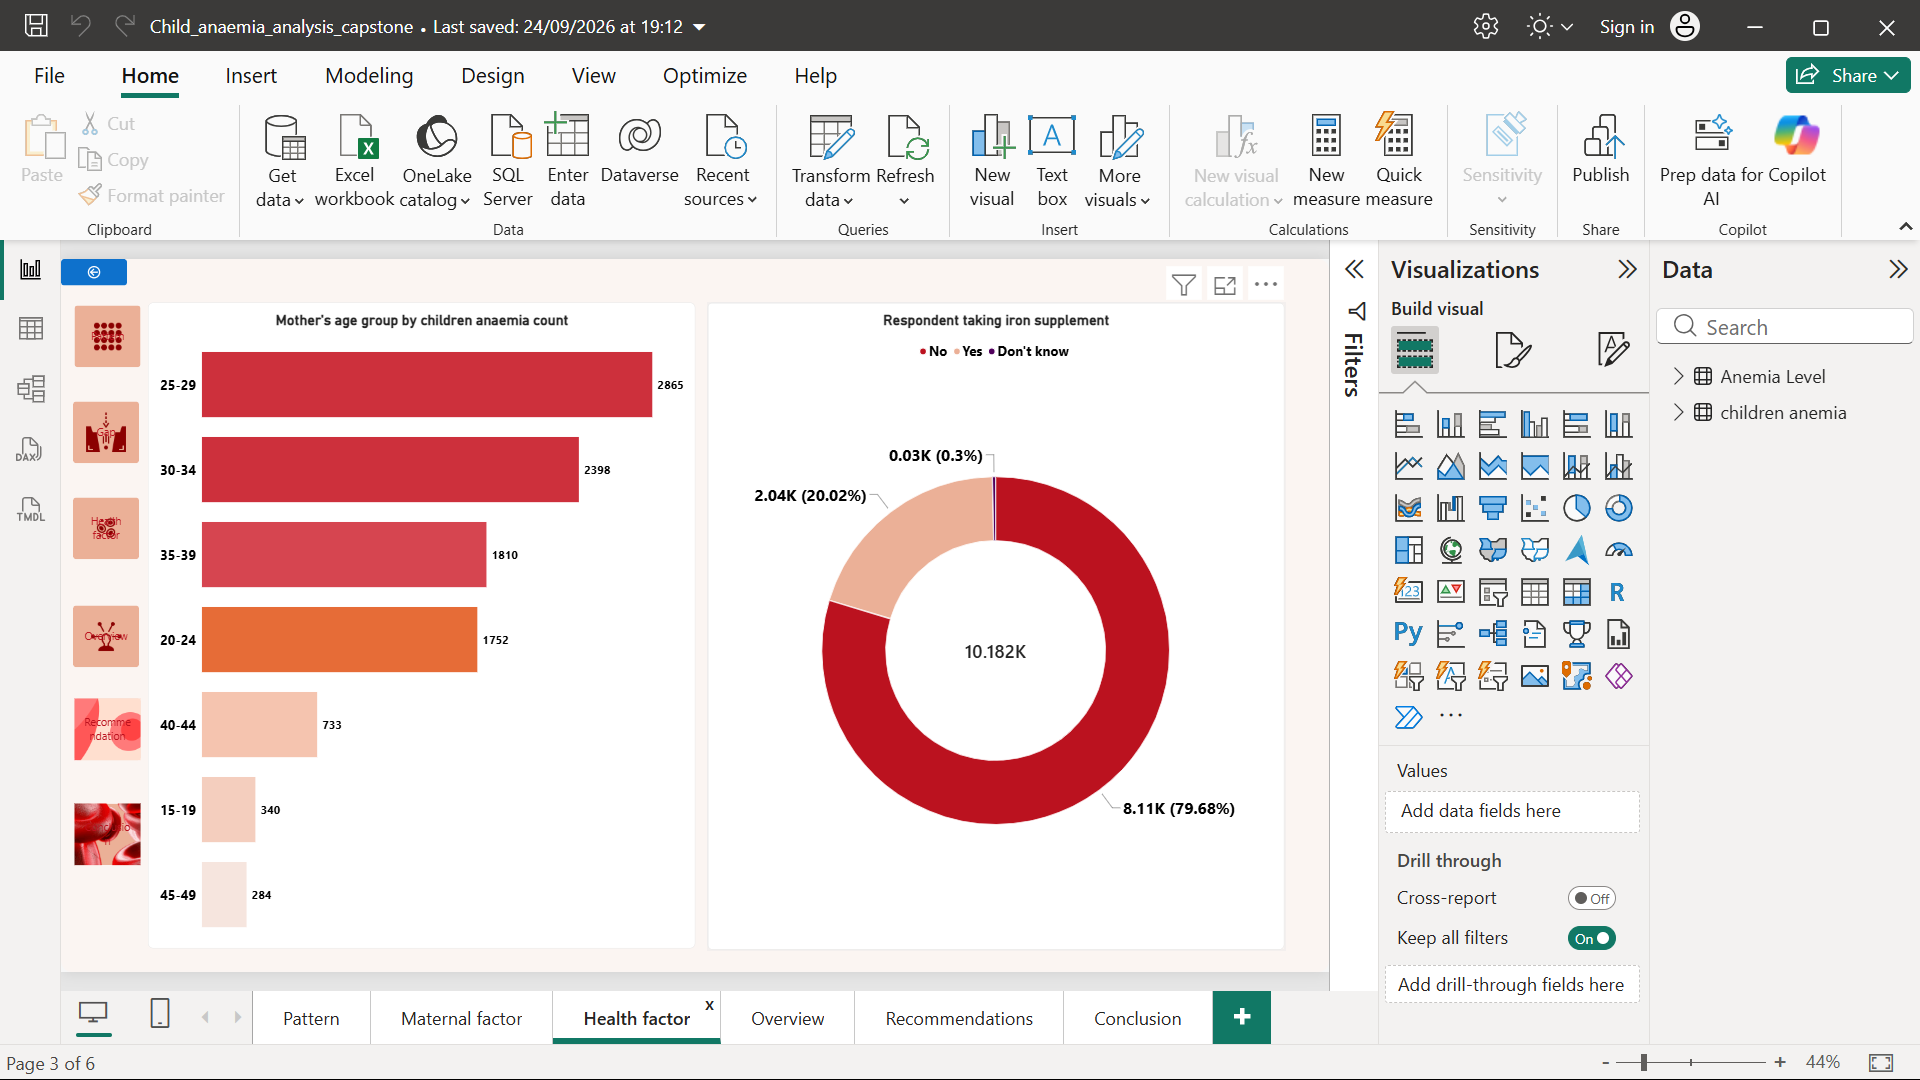

This screenshot's page, from the dashboard's own definition file:
{"tool":"powerbi","page":{"name":"Health factor","canvas":[1920,1080],"ordinal":2},"visuals":[{"type":"actionButton","box":[0,0,100,40],"z":0},{"type":"donutChart","title":"Respondent taking iron supplement","fields":{"Category":["children anemia.Taking iron supplement"],"Y":["children anemia.Total Respondents"]},"box":[980,66.7,873.3,980],"z":1000},{"type":"barChart","title":"Mother''s age group by children anaemia count","fields":{"Category":["children anemia.Age in 5-year groups"],"Y":["CountNonNull(children anemia.Child anemia level)"]},"box":[131.1,66.7,828.9,977.8],"z":2000},{"type":"actionButton","box":[19.6,70.7,100,93.3],"z":3000},{"type":"actionButton","box":[17.4,215.2,100,93.3],"z":4000},{"type":"actionButton","box":[17.4,361.9,100,93.3],"z":5000},{"type":"actionButton","box":[17.4,524.1,100,93.3],"z":6000},{"type":"actionButton","box":[19.6,666.3,100,93.3],"z":7000},{"type":"actionButton","box":[19.6,824.1,100,93.3],"z":8000}]}

Visuals, with their boxes on the page's 1920x1080 design canvas (x1, y1, x2, y2). These are canvas units, not pixel positions in the 1920x1080 screenshot, which may show the page scaled, cropped or inside an application window:
actionButton: 0, 0, 100, 40
"Respondent taking iron supplement" donutChart: 980, 67, 1853, 1047
"Mother''s age group by children anaemia count" barChart: 131, 67, 960, 1044
actionButton: 20, 71, 120, 164
actionButton: 17, 215, 117, 308
actionButton: 17, 362, 117, 455
actionButton: 17, 524, 117, 617
actionButton: 20, 666, 120, 760
actionButton: 20, 824, 120, 917
